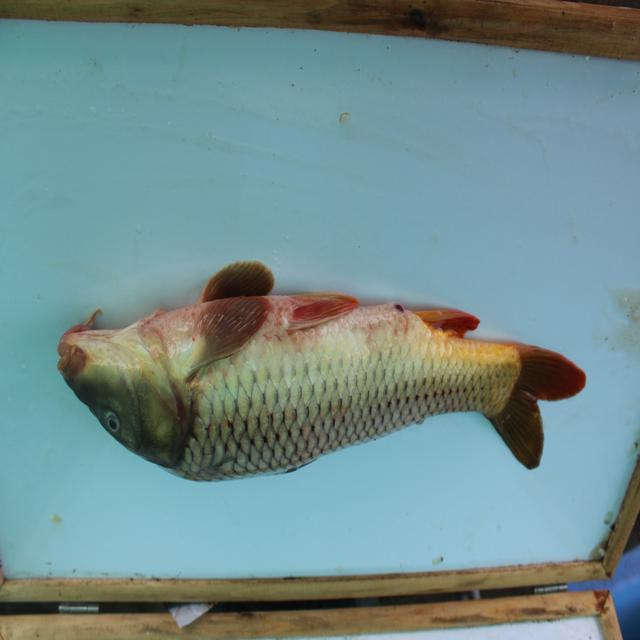CommonCarp: (51, 276, 599, 500)
